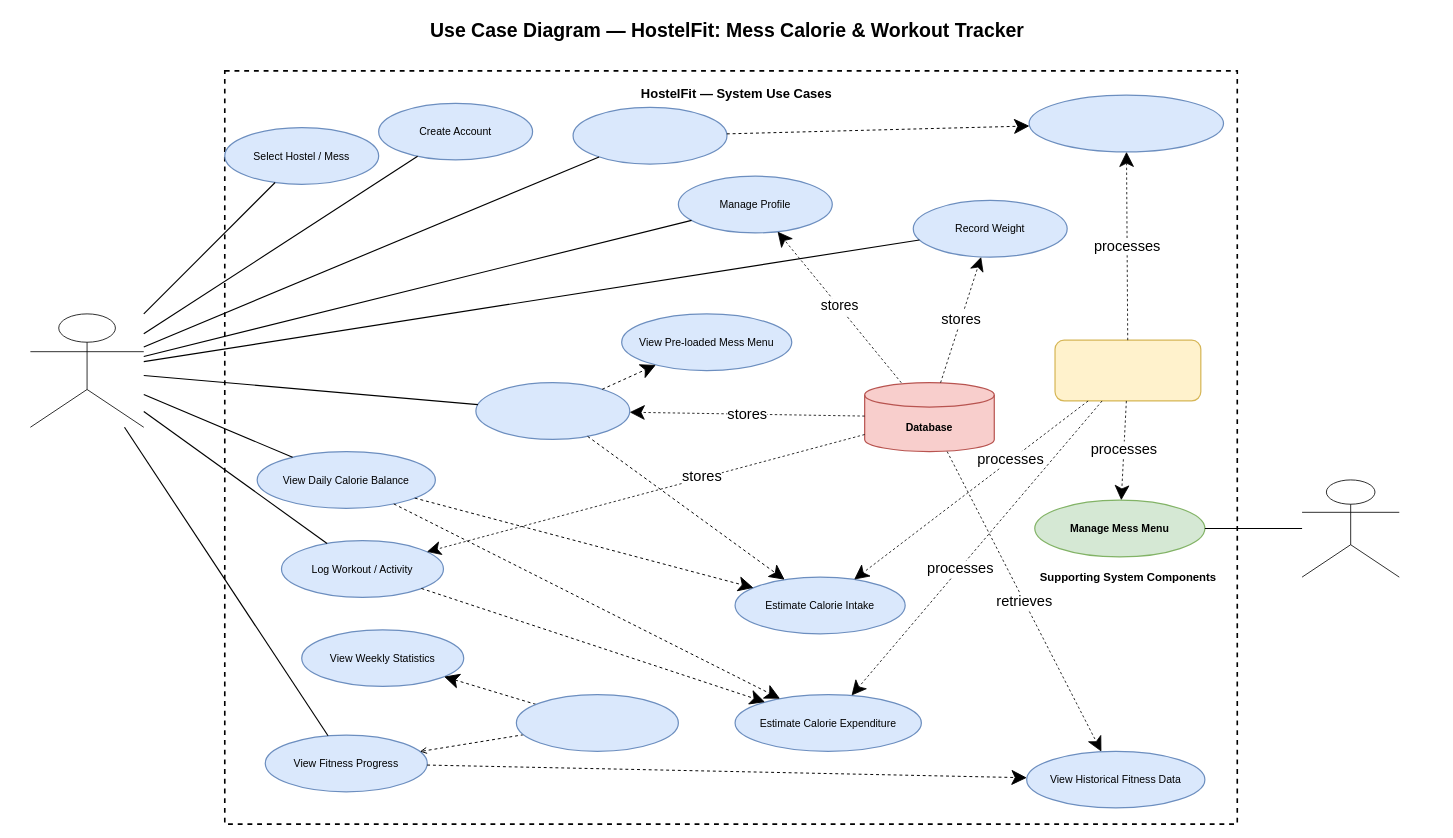
The diagram is 1453 pixels wide and 838 high, and some of its shapes have lost their labels. Here are the shapes that lost their labels. From the top down, the centre of each, then its label:
At [649,135]: "Set Fitness Goal".
At [1126,123]: "Calculate Personalized Calorie Target".
At [87,370]: "Hostel Student".
At [1127,370]: "Backend Server".
At [552,411]: "Log Meal".
At [1350,528]: "Admin".
At [597,723]: "View Progress Graphs".
